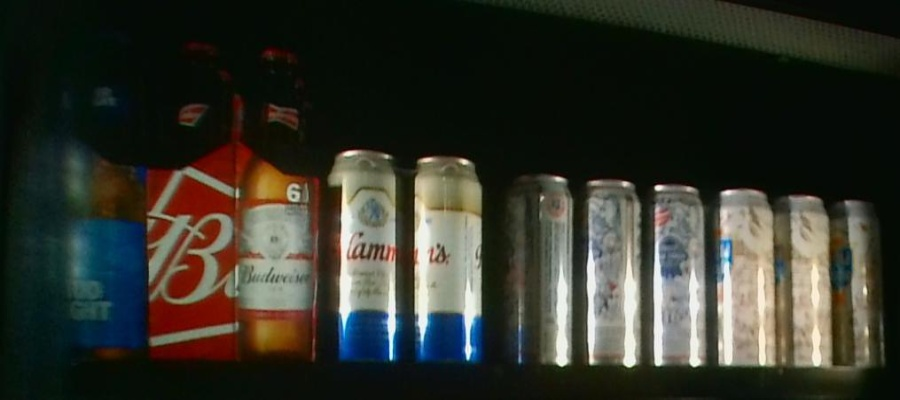bottle: (145, 40, 319, 361), (1, 31, 146, 359), (500, 173, 706, 366), (323, 142, 482, 365), (709, 187, 883, 367)
